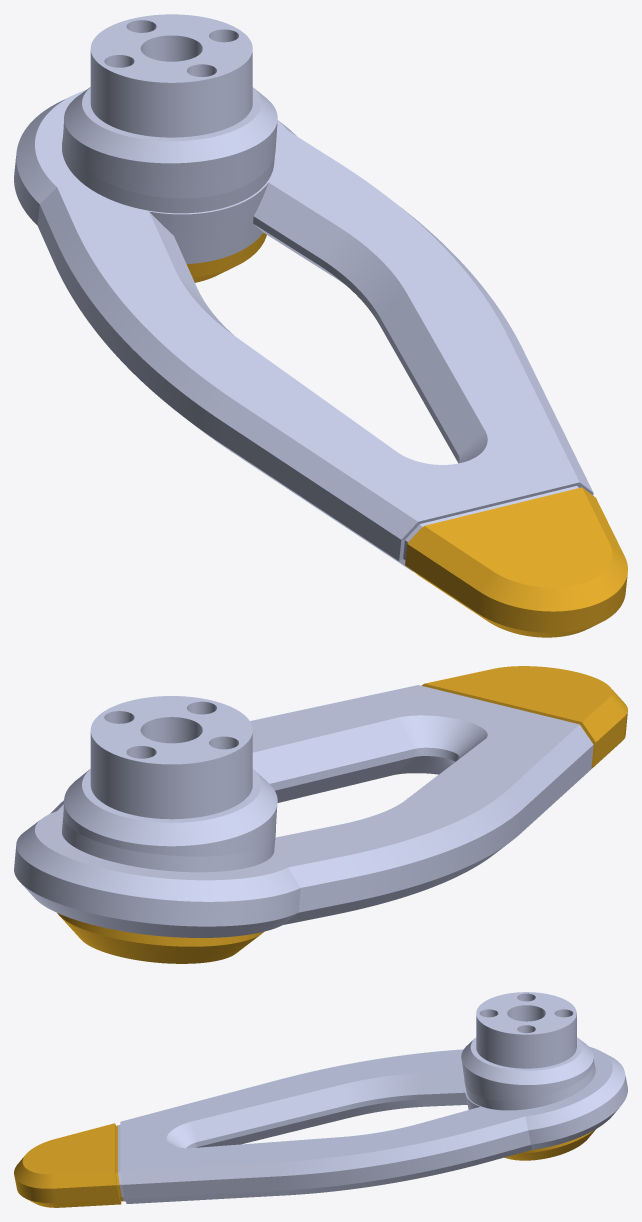
Rendered from qB-Antenna-Left.obj.
3 renders of one model, top to bottom at view 1: azimuth 30°, elevation 25°; view 2: azimuth 150°, elevation 25°; view 3: azimuth 270°, elevation 25°, orthographic. The views are drawn at different scales.
Parts seen in each view (by area): view 1: Ear, EarTip, EarCap; view 2: Ear, EarTip, EarCap; view 3: Ear, EarTip, EarCap.
Part boxes in pixels (bbox=[...]): Ear: bbox=[14, 14, 593, 571]; EarTip: bbox=[405, 487, 627, 637]; EarCap: bbox=[187, 232, 266, 282]; Ear: bbox=[14, 685, 593, 937]; EarTip: bbox=[421, 666, 627, 768]; EarCap: bbox=[57, 913, 263, 963]; Ear: bbox=[118, 992, 627, 1203]; EarTip: bbox=[14, 1123, 123, 1207]; EarCap: bbox=[504, 1129, 595, 1160].
Bounding box in the file's own units: 44.74 × 37.49 × 115.
